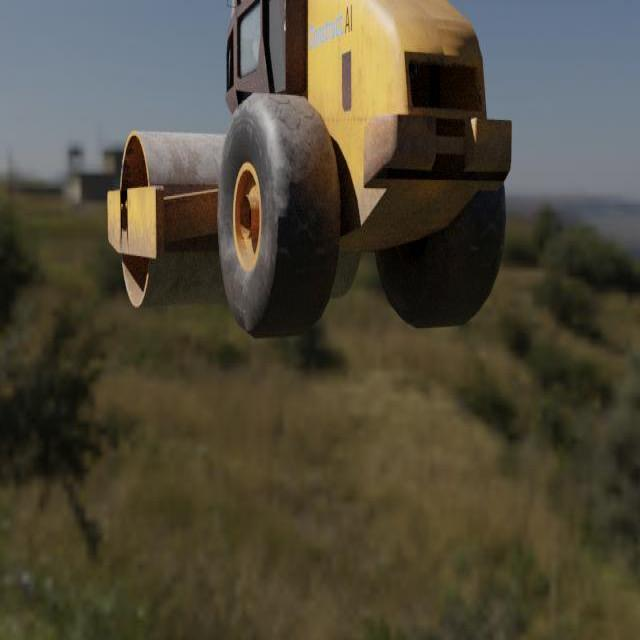Roller: (107, 0, 512, 340)
